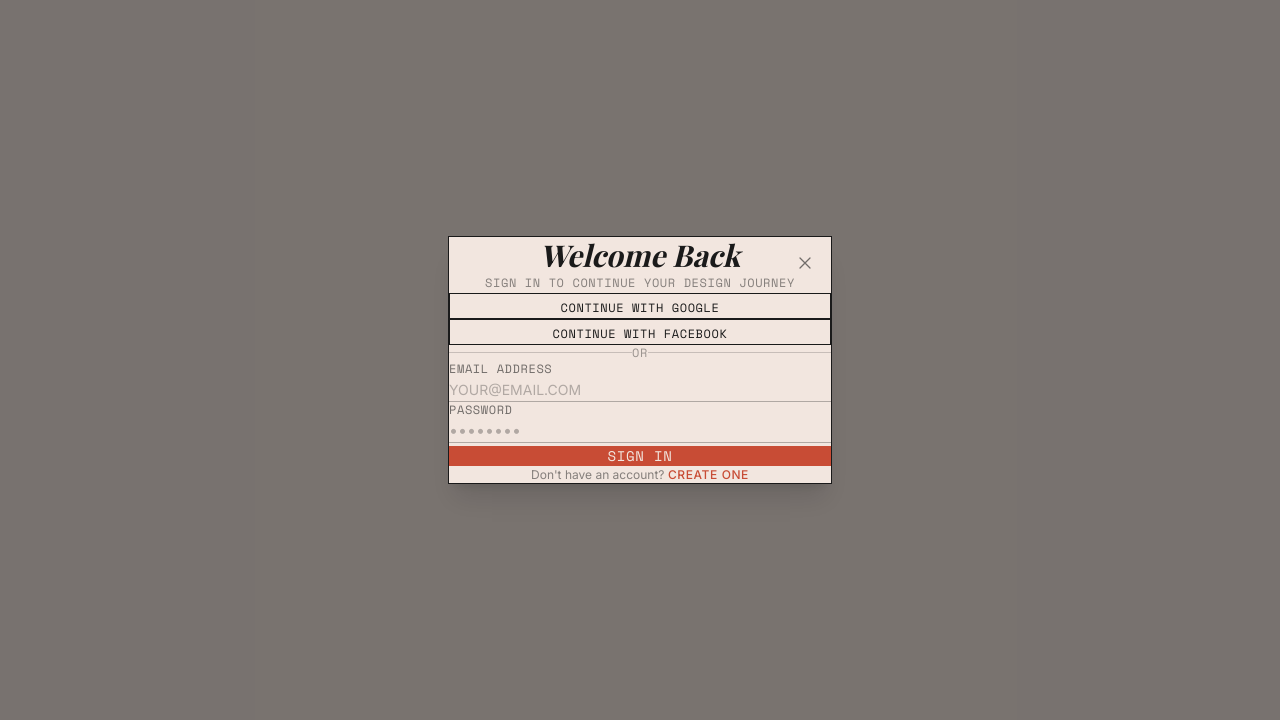
Test: AuthModal › should switch to sign up form when clicking create account
This screenshot has width=1280, height=720.
Step 1. Click the button "Create One" → (708, 475), box [668,467,749,483]
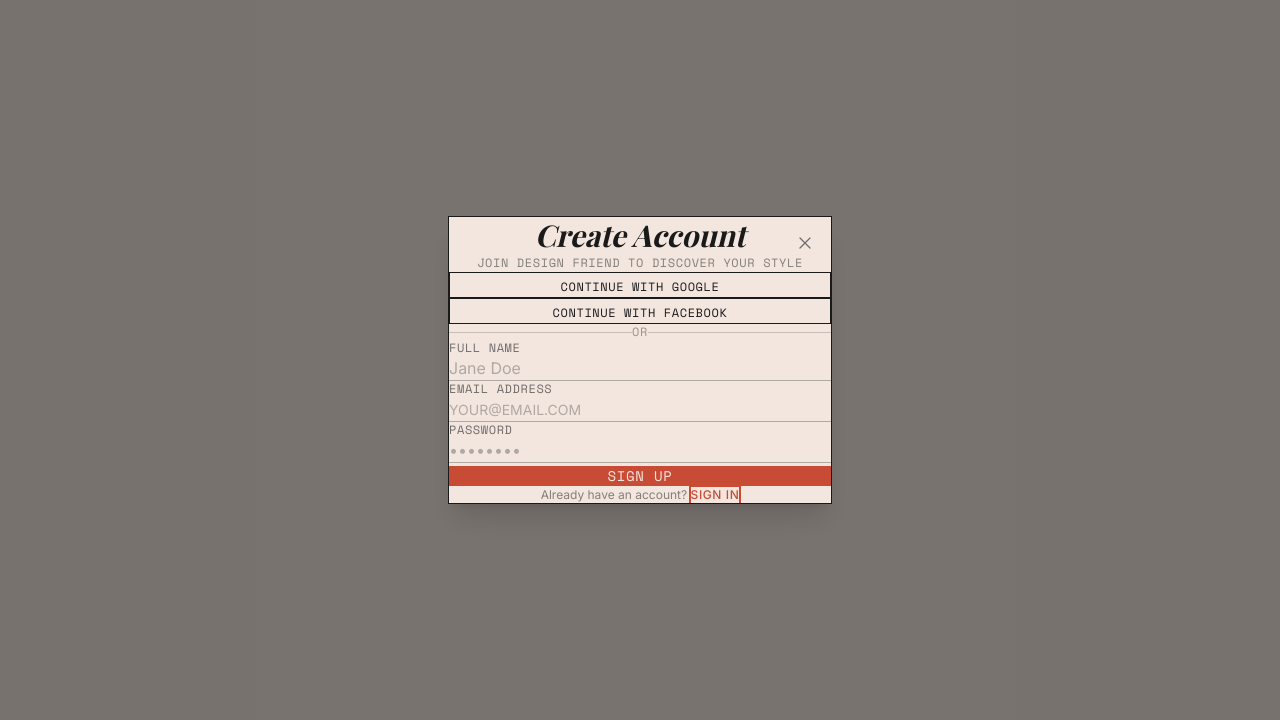
Expected: the heading "Create Account" is shown, [535,216,745,255]
Expected: the field labelled "Full Name" is shown, [449,356,831,381]
